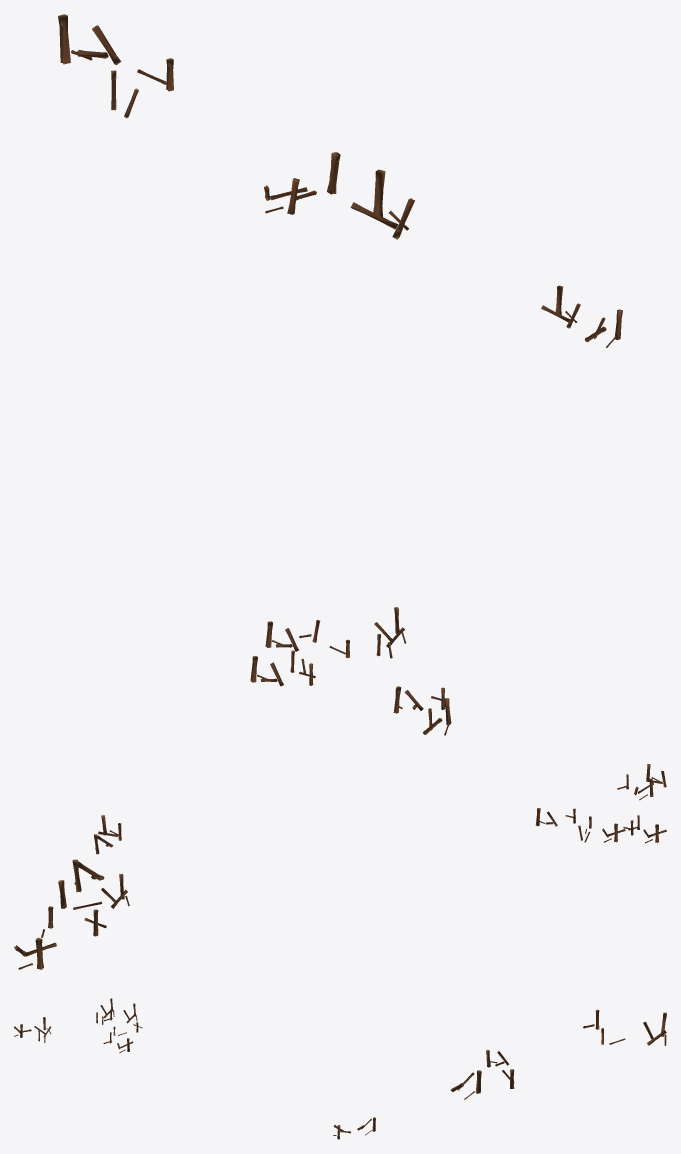
File: Wood.FBX
3 renders of one model, top to bottom at view 1: azimuth 30°, elevation 25°; view 2: azimuth 150°, elevation 25°; view 3: azimuth 270°, elevation 25°, orthographic. The views are drawn at different scales.
Visible parts, largest first — view 1: Object3792; view 2: Object3792; view 3: Object3792.
Part boxes in pixels (bbox=[...]): Object3792: bbox=[58, 14, 622, 735]; Object3792: bbox=[14, 764, 666, 969]; Object3792: bbox=[14, 998, 666, 1139].
Bounding box in the file's own units: 220 × 63.02 × 415.
